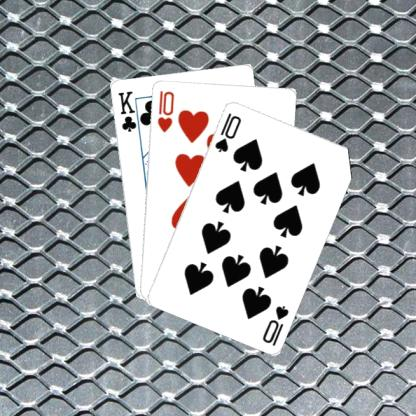10H: (154, 88, 175, 134)
10S: (259, 302, 290, 347), (212, 110, 242, 154)
KC: (115, 88, 142, 136)
